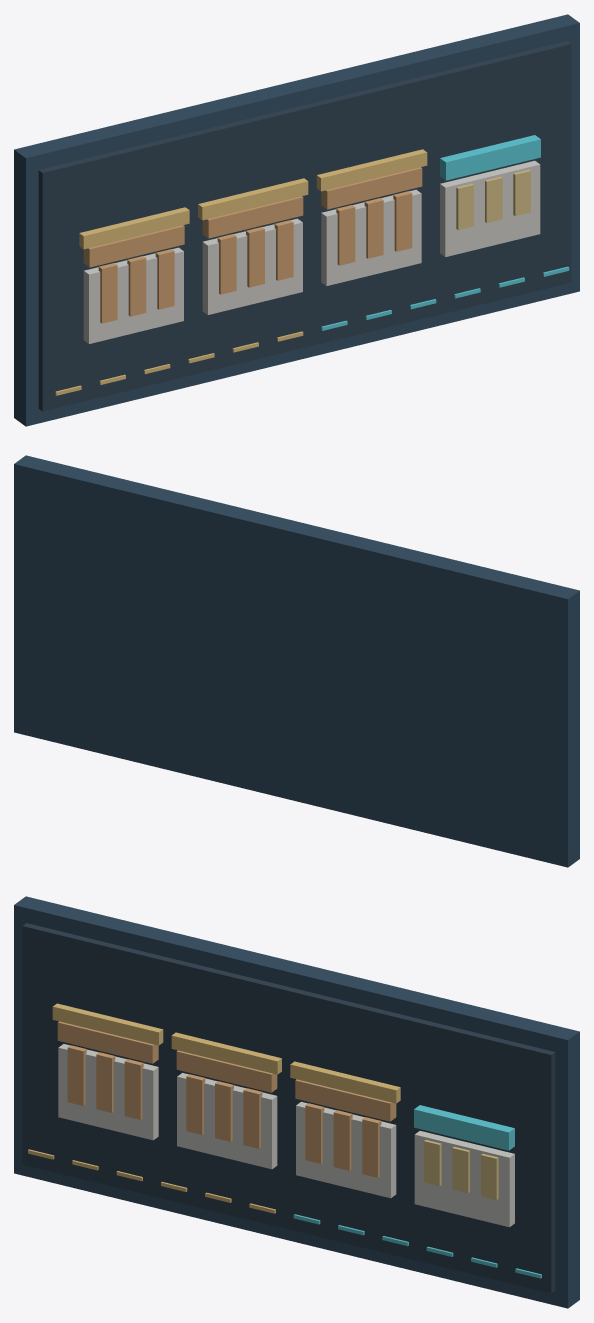
File: 06_L77_CopperDielectricLayerCrossSection.glb
3 renders of one model, top to bottom at view 1: azimuth 30°, elevation 25°; view 2: azimuth 150°, elevation 25°; view 3: azimuth 330°, elevation 25°, orthographic.
Visible parts, largest first — view 1: CopperDielectricLayerCrossSection_Node_0001, CopperDielectricLayerCrossSection_Node_0000, CopperDielectricLayerCrossSection_Node_0020, CopperDielectricLayerCrossSection_Node_0002, CopperDielectricLayerCrossSection_Node_0014, CopperDielectricLayerCrossSection_Node_0008, CopperDielectricLayerCrossSection_Node_0021, CopperDielectricLayerCrossSection_Node_0015, CopperDielectricLayerCrossSection_Node_0003, CopperDielectricLayerCrossSection_Node_0009, CopperDielectricLayerCrossSection_Node_0019, CopperDielectricLayerCrossSection_Node_0007 (+13 smaller); view 2: CopperDielectricLayerCrossSection_Node_0000; view 3: CopperDielectricLayerCrossSection_Node_0001, CopperDielectricLayerCrossSection_Node_0000, CopperDielectricLayerCrossSection_Node_0020, CopperDielectricLayerCrossSection_Node_0014, CopperDielectricLayerCrossSection_Node_0002, CopperDielectricLayerCrossSection_Node_0008, CopperDielectricLayerCrossSection_Node_0021, CopperDielectricLayerCrossSection_Node_0003, CopperDielectricLayerCrossSection_Node_0009, CopperDielectricLayerCrossSection_Node_0015, CopperDielectricLayerCrossSection_Node_0007, CopperDielectricLayerCrossSection_Node_0013 (+13 smaller).
Part boxes in pixels (x1=…): CopperDielectricLayerCrossSection_Node_0001: x1=38, y1=41, x2=571, y2=411; CopperDielectricLayerCrossSection_Node_0000: x1=14, y1=14, x2=579, y2=426; CopperDielectricLayerCrossSection_Node_0020: x1=440, y1=160, x2=540, y2=256; CopperDielectricLayerCrossSection_Node_0002: x1=83, y1=247, x2=183, y2=343; CopperDielectricLayerCrossSection_Node_0014: x1=321, y1=189, x2=421, y2=286; CopperDielectricLayerCrossSection_Node_0008: x1=202, y1=218, x2=302, y2=314; CopperDielectricLayerCrossSection_Node_0021: x1=440, y1=135, x2=540, y2=180; CopperDielectricLayerCrossSection_Node_0015: x1=321, y1=167, x2=422, y2=209; CopperDielectricLayerCrossSection_Node_0003: x1=83, y1=225, x2=184, y2=267; CopperDielectricLayerCrossSection_Node_0009: x1=202, y1=196, x2=303, y2=238; CopperDielectricLayerCrossSection_Node_0019: x1=316, y1=149, x2=427, y2=191; CopperDielectricLayerCrossSection_Node_0007: x1=79, y1=207, x2=189, y2=249; CopperDielectricLayerCrossSection_Node_0000: x1=14, y1=455, x2=579, y2=867; CopperDielectricLayerCrossSection_Node_0001: x1=22, y1=923, x2=555, y2=1293; CopperDielectricLayerCrossSection_Node_0000: x1=14, y1=896, x2=579, y2=1308; CopperDielectricLayerCrossSection_Node_0020: x1=414, y1=1131, x2=514, y2=1227; CopperDielectricLayerCrossSection_Node_0014: x1=296, y1=1101, x2=396, y2=1198; CopperDielectricLayerCrossSection_Node_0002: x1=58, y1=1044, x2=158, y2=1140; CopperDielectricLayerCrossSection_Node_0008: x1=177, y1=1073, x2=277, y2=1169; CopperDielectricLayerCrossSection_Node_0021: x1=414, y1=1105, x2=514, y2=1150; CopperDielectricLayerCrossSection_Node_0003: x1=57, y1=1021, x2=158, y2=1063; CopperDielectricLayerCrossSection_Node_0009: x1=176, y1=1050, x2=277, y2=1092; CopperDielectricLayerCrossSection_Node_0015: x1=295, y1=1079, x2=396, y2=1121; CopperDielectricLayerCrossSection_Node_0007: x1=52, y1=1003, x2=163, y2=1045; CopperDielectricLayerCrossSection_Node_0013: x1=171, y1=1032, x2=281, y2=1074.
Bounding box in the file's own units: 3.5 × 1.62 × 0.2525.
